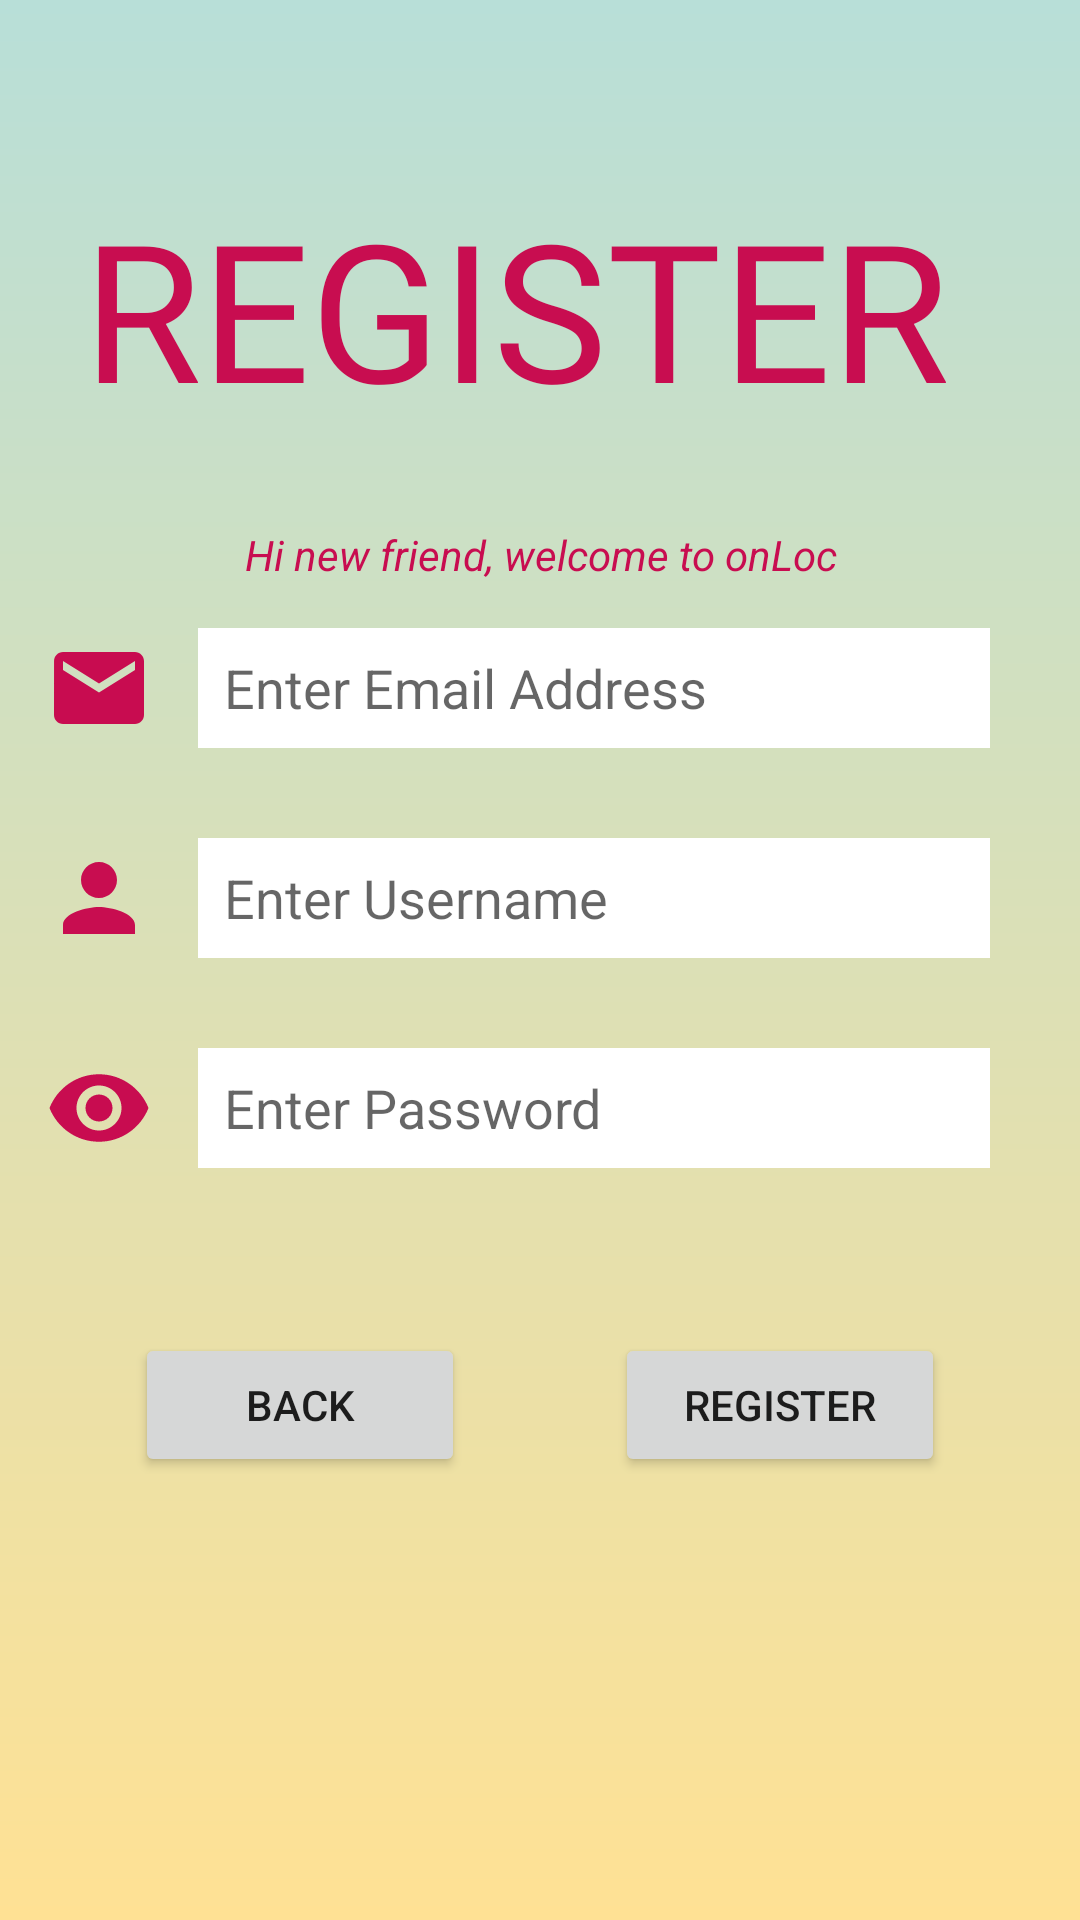

Icons on this 1080px x 1920px Android screen, each with the point to tap as point (x, y):
eye: point (99, 1108)
person: point (99, 898)
